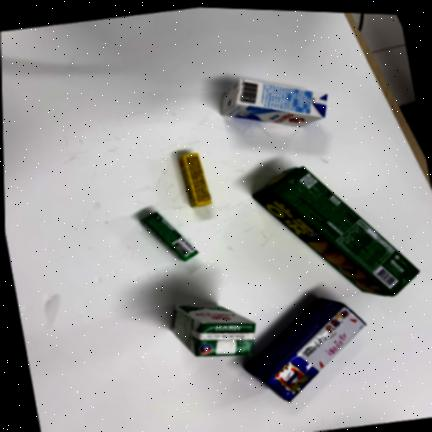cracker_vege: (250, 167, 421, 297)
gum_green: (139, 211, 199, 261)
gum_yellow: (175, 152, 212, 207)
milk_blue: (219, 78, 329, 128)
milk_green: (170, 305, 255, 355)
